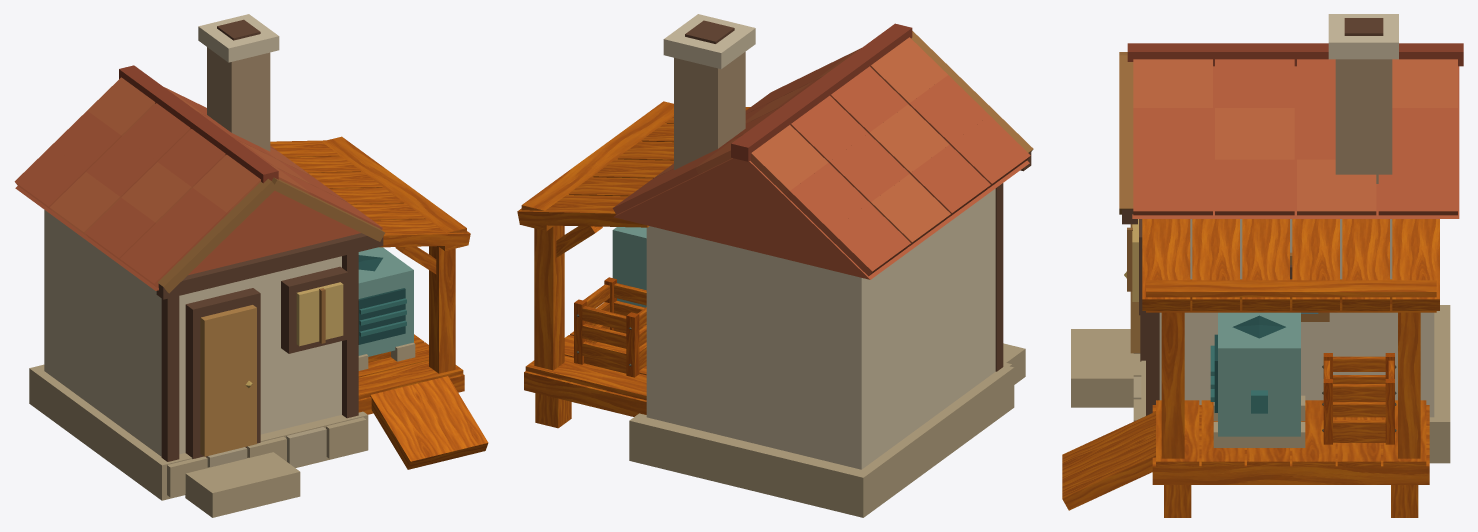
File: warehouse-cold.gltf
3 renders of one model, left to right at view 1: azimuth 30°, elevation 25°; view 2: azimuth 150°, elevation 25°; view 3: azimuth 270°, elevation 25°, orthographic. The views are drawn at different scales.
Visible parts, largest first — view 1: warehouse-cold; view 2: warehouse-cold; view 3: warehouse-cold.
Boxes of the visible parts, left/top/right/bottom form: warehouse-cold: left=14, top=14, right=488, bottom=517; warehouse-cold: left=517, top=14, right=1033, bottom=517; warehouse-cold: left=1062, top=14, right=1463, bottom=517.
Size of the model in its own units: 1.9 by 2.03 by 1.77.
Materials: 2 (1 with a texture image).
